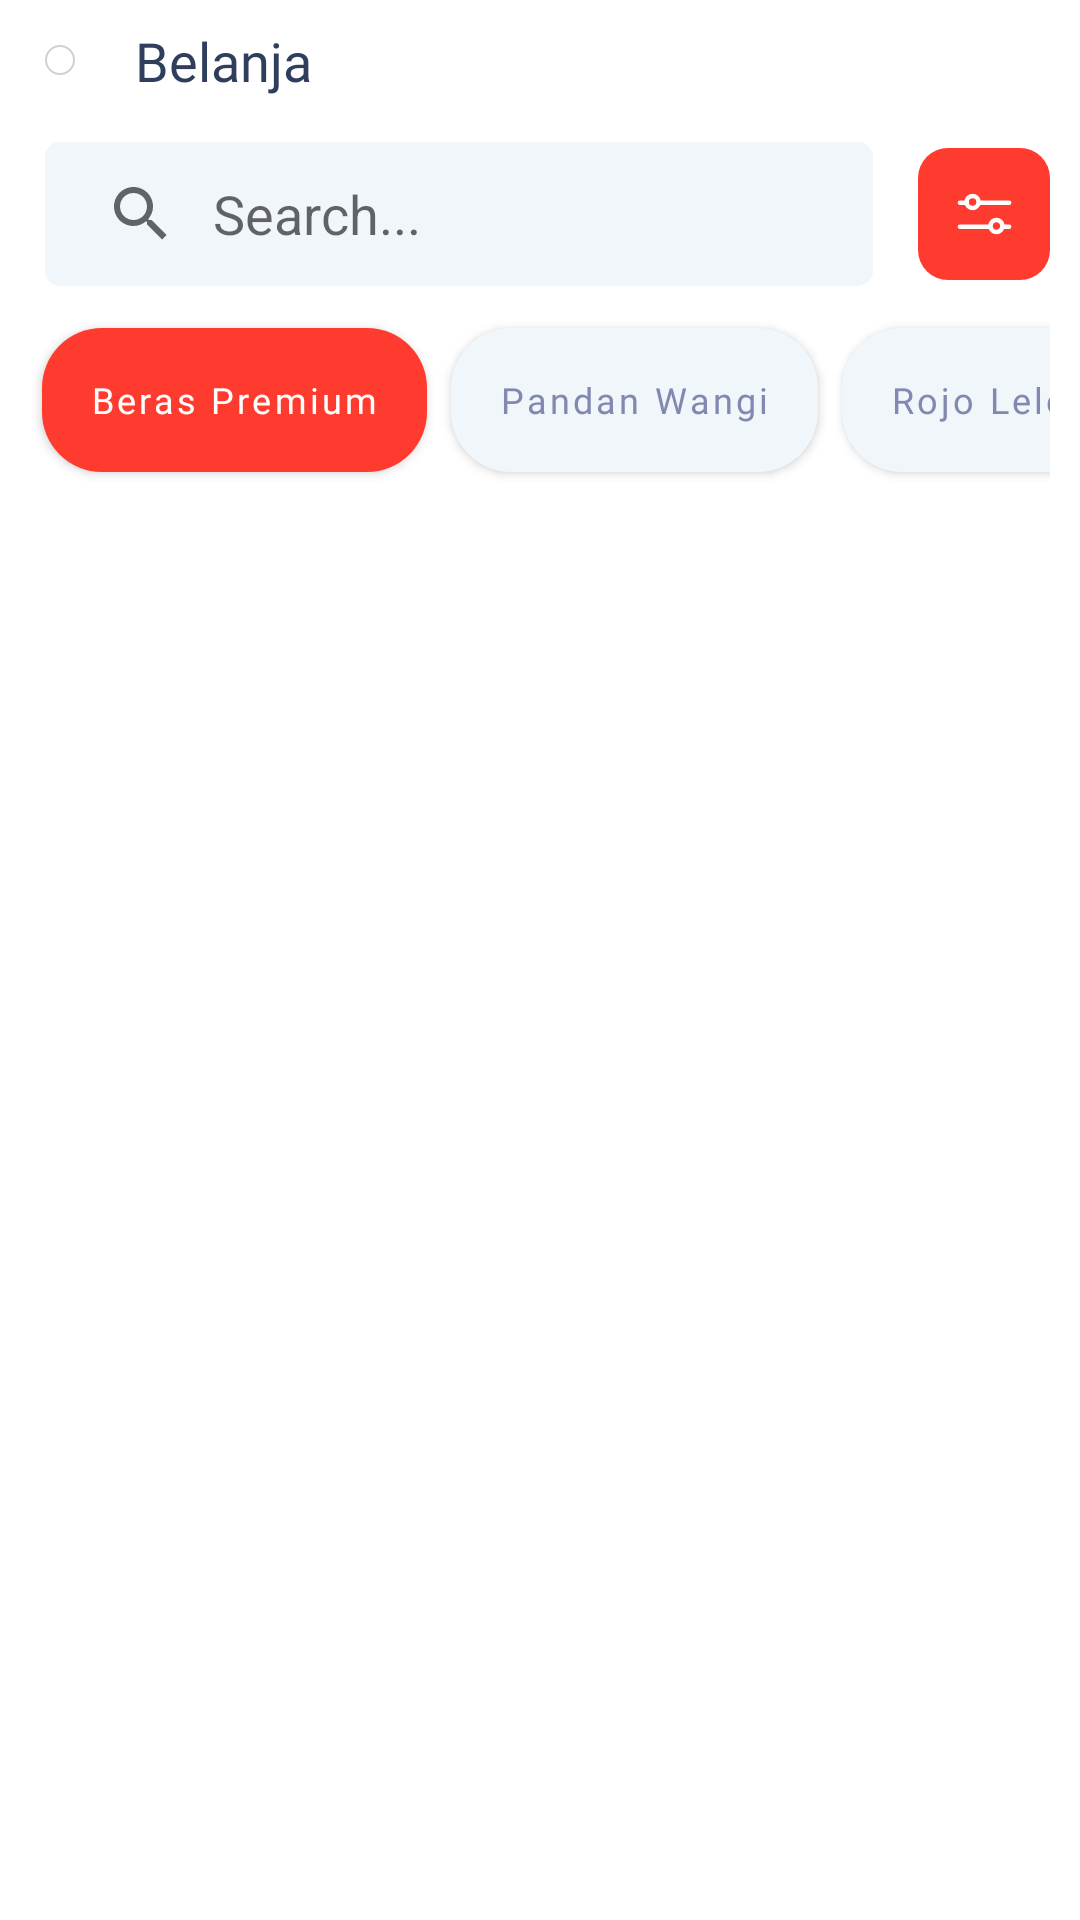

Where to tap for icons on this 1080 × 1920 app screen, as (x,y):
filter: (984,214)
